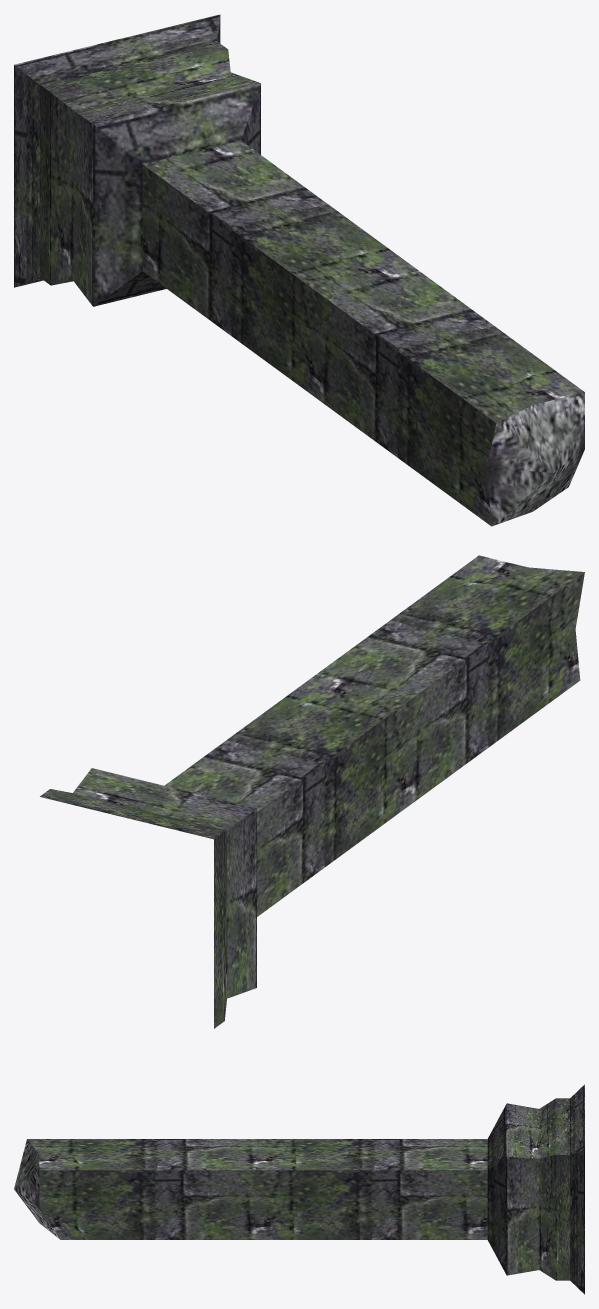
3 views of the same model, one above another, from view 1: azimuth 30°, elevation 25°; view 2: azimuth 150°, elevation 25°; view 3: azimuth 270°, elevation 25° (orthographic). The views are drawn at different scales.
Visible parts, largest first — view 1: model_Object24; view 2: model_Object24; view 3: model_Object24.
Boxes of the visible parts, bbox=[...] form: model_Object24: bbox=[14, 14, 584, 526]; model_Object24: bbox=[40, 555, 584, 1028]; model_Object24: bbox=[14, 1084, 584, 1294].
Bounding box in the file's own units: 1.5 × 1.55 × 5.54.
1 material, 1 textured.
